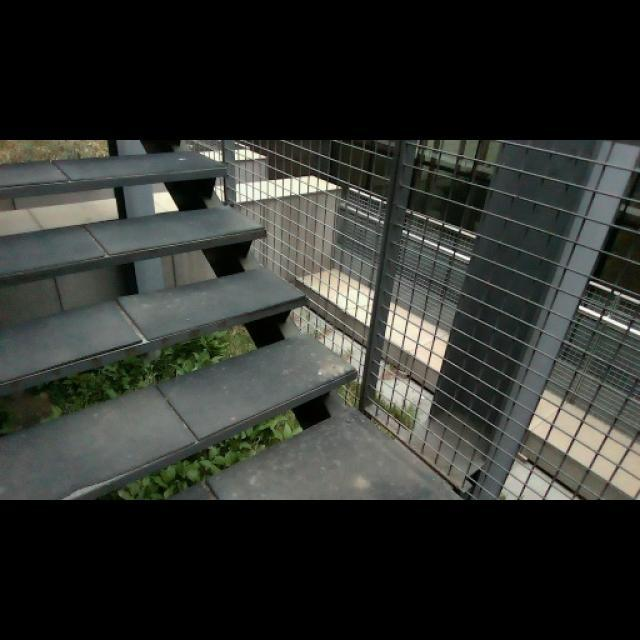stair: (0, 145, 258, 481)
